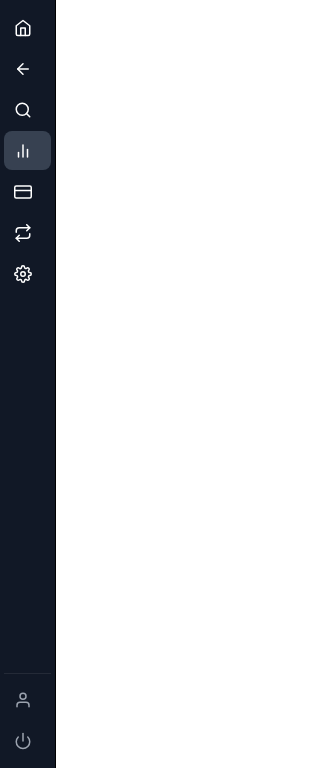
Test: Sidebar — Create menu › T-SIDEBAR-CREATE-R04: Reporting shows create actions on list pages
Hover over the 4th list item titled "Reporting" at (28, 150), box [4,131,51,170]
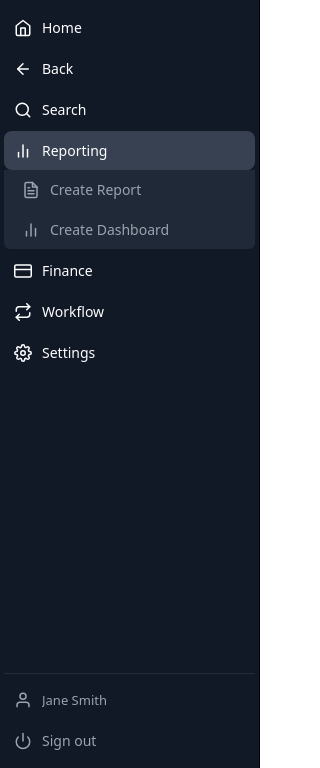
Expected: the link titled "Create Report" is shown, [22,180,141,199]
Expected: the link titled "Create Dashboard" is shown, [22,220,169,239]
